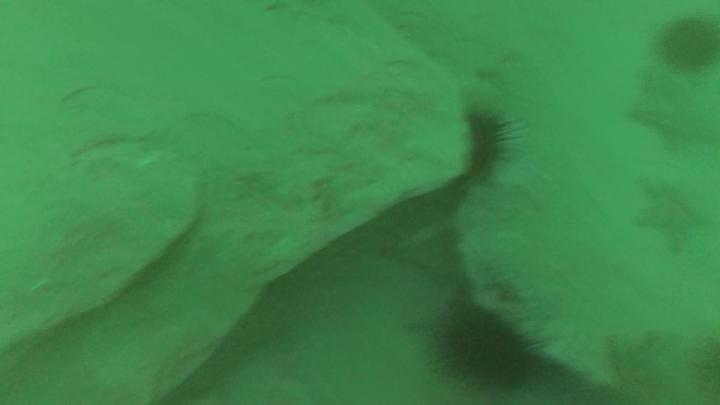echinus: (431, 294, 556, 402), (463, 102, 530, 189), (653, 12, 720, 73)
starfish: (641, 175, 713, 255)
